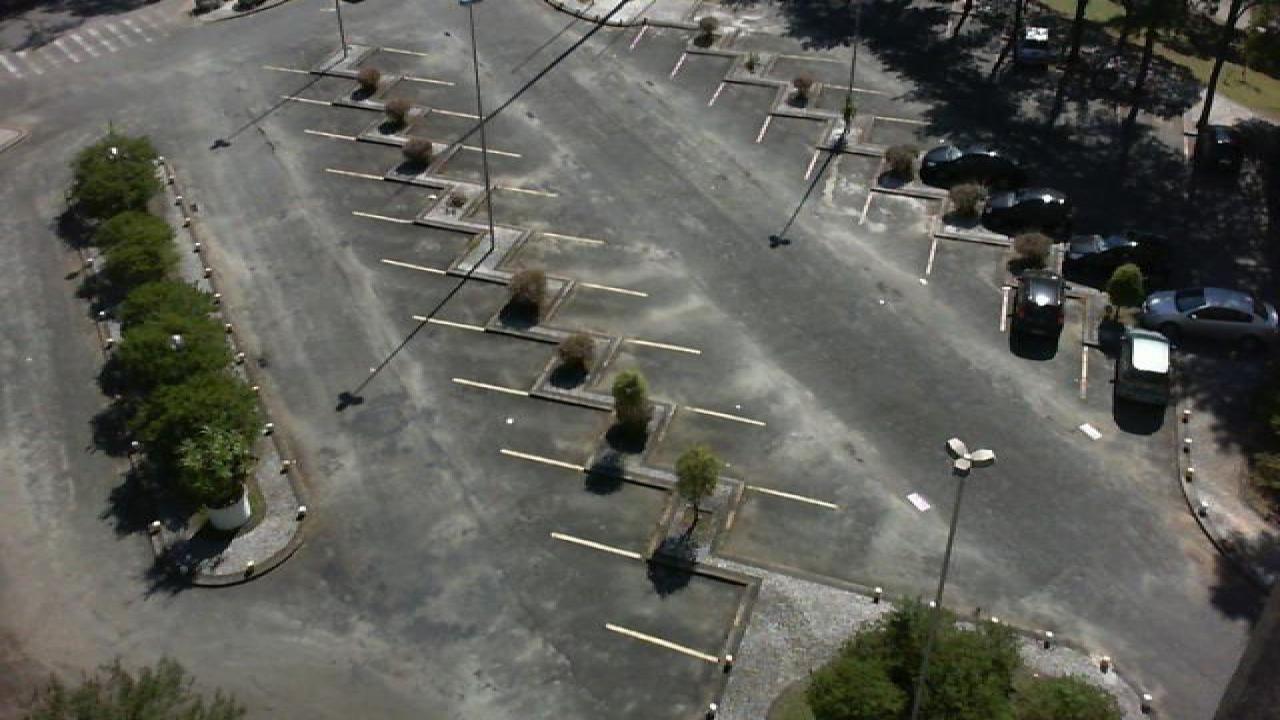Car: (1140, 287, 1278, 346), (1104, 318, 1176, 406), (1064, 232, 1170, 280), (1008, 270, 1070, 343), (980, 186, 1072, 235), (918, 144, 1024, 184)
